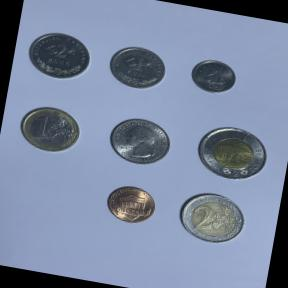coin: (190, 120, 274, 186), (173, 186, 252, 250), (21, 25, 97, 86), (102, 110, 176, 170), (13, 100, 86, 158), (101, 179, 161, 229), (185, 54, 241, 99)
